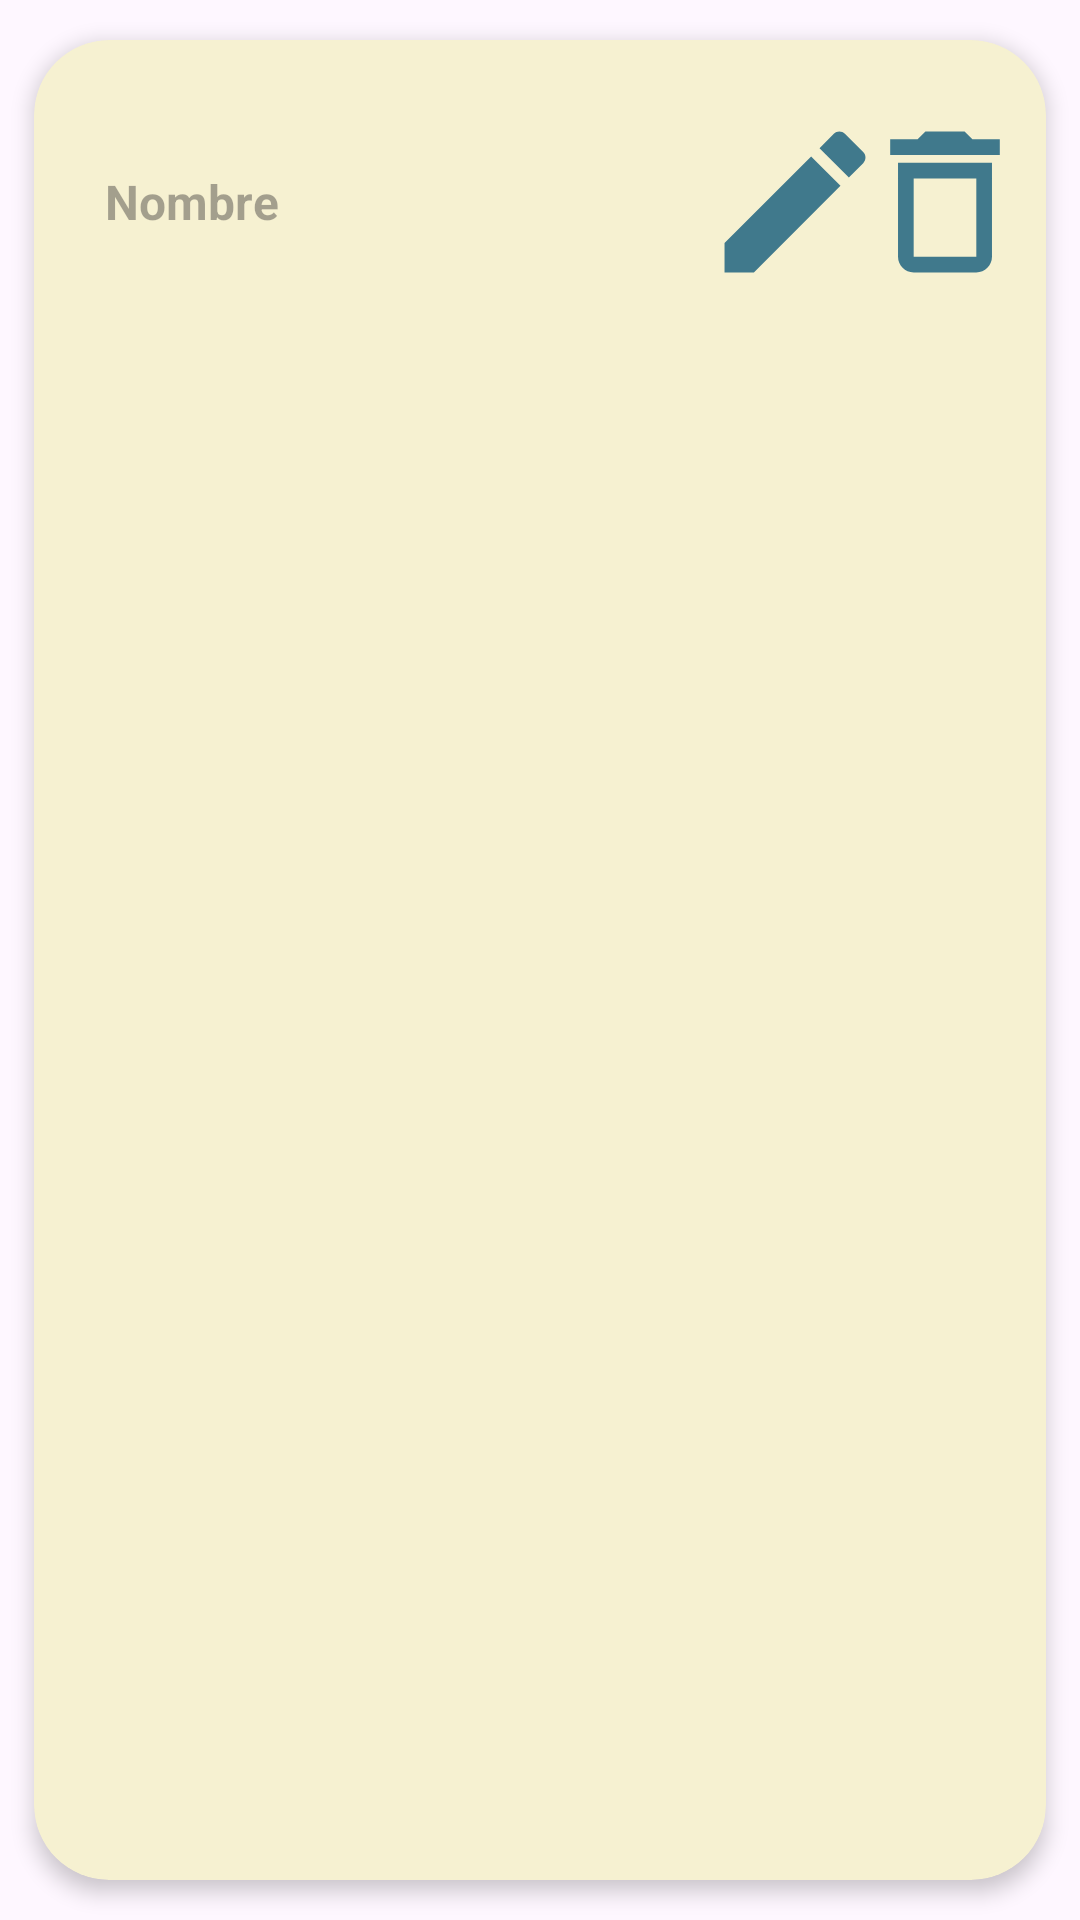

Where to tap for icons on this 1080 × 1920 app screen, as point (x, y):
Borrar Registro: point (945, 202)
Editar Registro: point (795, 202)
